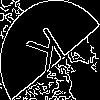K: (25, 25, 73, 82)
